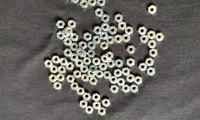nut: (148, 31, 157, 40), (147, 67, 156, 76), (139, 63, 148, 72), (118, 21, 127, 30), (95, 8, 104, 17), (89, 65, 98, 74), (70, 82, 79, 91), (75, 59, 84, 68), (70, 53, 79, 62), (66, 62, 75, 71), (56, 21, 66, 29), (149, 5, 157, 14), (156, 33, 165, 41), (148, 40, 157, 48), (146, 58, 154, 67), (140, 35, 149, 43), (138, 27, 147, 35), (115, 14, 123, 23), (125, 26, 133, 35), (123, 34, 131, 43), (127, 46, 136, 54), (127, 58, 135, 67), (135, 76, 143, 85), (131, 84, 139, 93), (127, 74, 135, 83), (117, 78, 126, 86), (115, 34, 123, 43), (109, 26, 117, 35), (101, 23, 110, 31), (102, 14, 110, 23), (80, 0, 89, 8), (116, 59, 124, 68), (114, 69, 122, 78), (109, 76, 118, 84), (111, 85, 119, 94), (106, 36, 115, 44), (100, 32, 109, 40), (106, 52, 114, 61), (99, 63, 108, 71), (103, 71, 112, 79), (94, 26, 102, 35), (88, 41, 96, 50), (87, 50, 96, 58), (93, 57, 101, 66), (74, 70, 82, 79), (66, 75, 75, 83), (77, 87, 85, 96), (80, 100, 88, 109), (86, 106, 94, 115), (98, 107, 106, 116), (102, 99, 111, 107), (80, 66, 89, 74), (76, 48, 85, 56), (79, 41, 87, 50), (70, 43, 79, 51), (64, 49, 73, 57), (70, 33, 79, 41), (64, 38, 73, 46), (68, 20, 77, 28), (65, 27, 73, 36), (61, 30, 70, 38), (57, 31, 65, 40), (59, 58, 68, 66), (58, 66, 66, 75), (52, 56, 61, 64), (44, 60, 53, 68), (50, 65, 58, 74), (49, 74, 57, 83), (150, 49, 158, 57), (123, 68, 131, 76), (122, 85, 130, 93), (101, 42, 109, 50), (107, 60, 115, 68), (101, 55, 109, 63), (93, 36, 101, 44), (84, 33, 92, 41), (96, 70, 104, 78), (88, 70, 96, 78), (90, 78, 98, 86), (82, 74, 90, 82), (83, 93, 91, 101), (93, 94, 101, 102), (93, 102, 101, 110), (57, 74, 65, 82), (54, 82, 62, 90), (83, 58, 92, 65), (80, 50, 87, 58), (88, 0, 97, 6), (98, 1, 106, 6), (71, 0, 80, 4)
